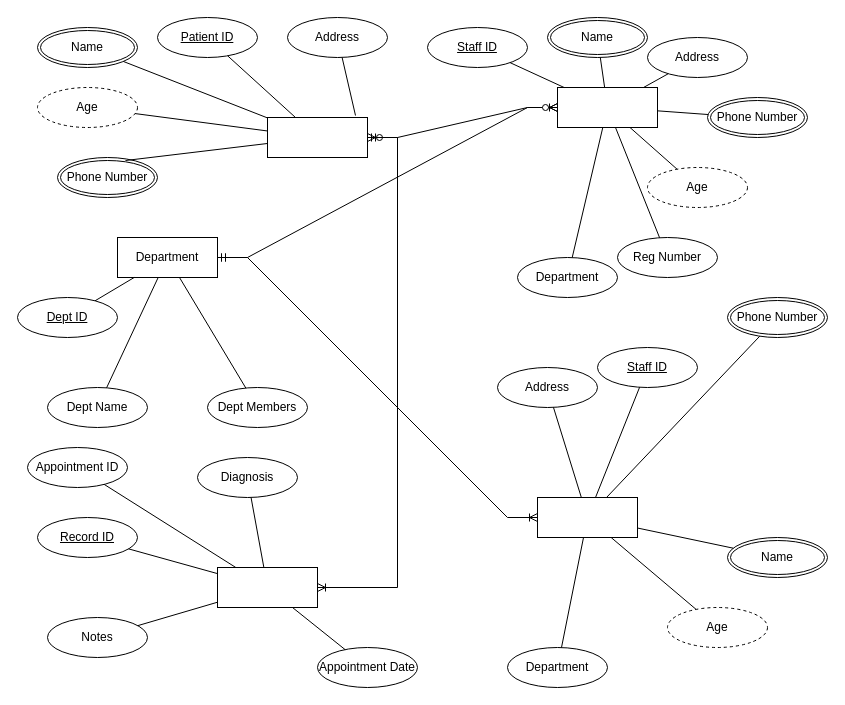
Image size: 845x705. Some labels were removed from this diagram. The shapes that lost their labels are listed below. From the top down, each one's centre as x and y in pixels, then its label:
(607,107): Medical staff
(317,137): Patient
(587,517): Support Staff
(267,587): Medical Records
